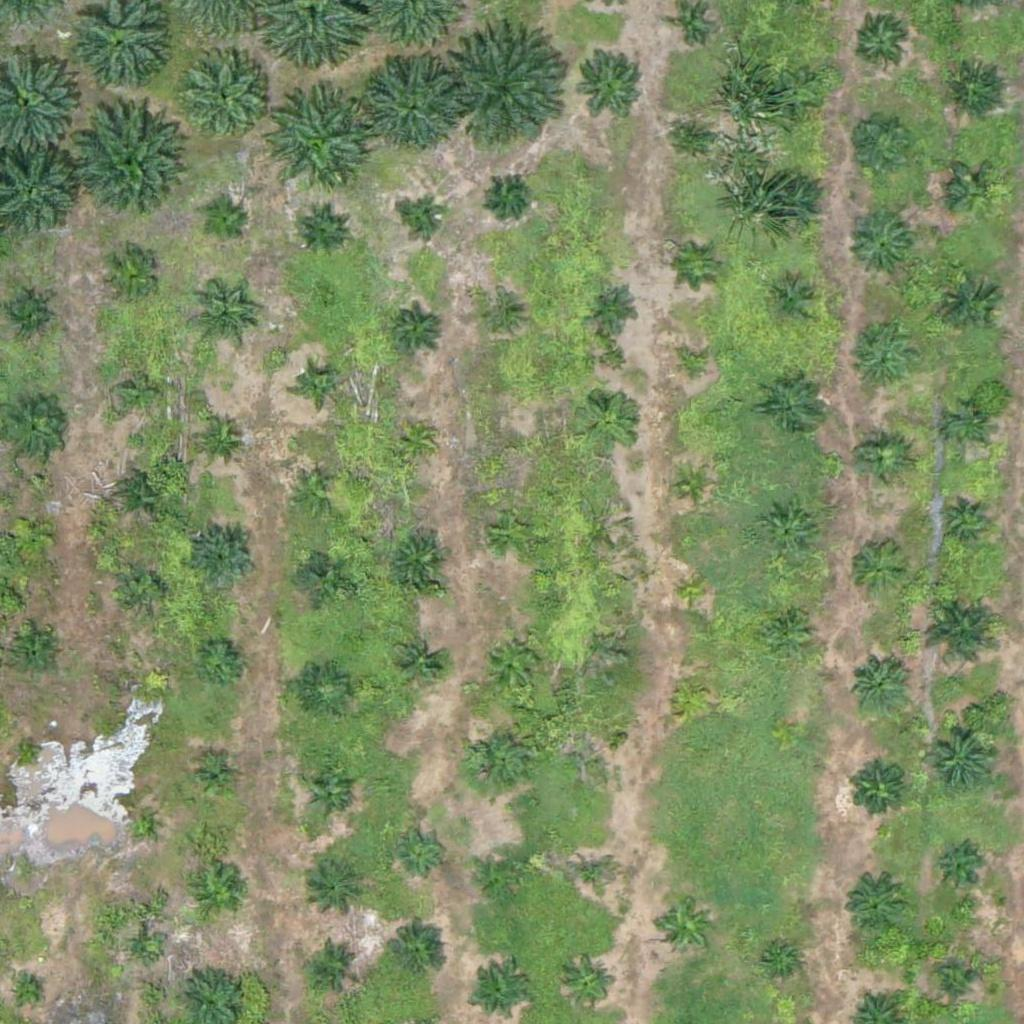Kelapa_Sawit: (449, 29, 574, 154), (70, 110, 183, 224), (259, 92, 371, 205), (360, 53, 460, 154), (174, 47, 274, 148), (919, 588, 1006, 676), (841, 109, 916, 185), (922, 719, 997, 794), (573, 45, 648, 120), (845, 537, 908, 600), (850, 330, 913, 393), (848, 654, 911, 717), (306, 857, 369, 920), (191, 290, 254, 353), (97, 244, 160, 307), (464, 728, 527, 791), (763, 373, 826, 436), (654, 896, 717, 959), (193, 526, 256, 589), (759, 503, 822, 566), (764, 173, 827, 236), (943, 57, 1006, 120), (108, 361, 171, 424), (385, 926, 448, 989), (849, 214, 911, 277), (842, 874, 904, 937), (846, 757, 908, 820), (939, 274, 1001, 337), (1, 399, 63, 462), (388, 530, 450, 593), (482, 631, 544, 694), (578, 391, 640, 454), (563, 957, 613, 1008), (300, 665, 350, 716), (768, 277, 818, 328), (298, 547, 348, 598), (118, 469, 168, 520), (775, 71, 825, 122), (194, 412, 244, 463), (119, 563, 169, 614), (7, 509, 57, 560), (195, 636, 245, 687), (393, 636, 443, 687), (567, 851, 617, 902), (479, 849, 529, 900), (397, 826, 447, 877), (305, 768, 355, 819), (857, 436, 907, 486), (929, 845, 979, 895), (949, 166, 999, 216), (298, 205, 348, 255), (194, 870, 244, 920), (392, 303, 442, 353), (762, 604, 812, 654), (857, 18, 907, 68), (930, 959, 980, 1009), (588, 282, 638, 332), (488, 507, 538, 557), (291, 467, 341, 517), (199, 200, 249, 250), (13, 630, 63, 680), (308, 940, 358, 990), (190, 753, 240, 803), (938, 497, 987, 548), (682, 247, 720, 285), (489, 175, 527, 213), (675, 348, 713, 386), (673, 467, 711, 505), (675, 574, 713, 612), (671, 674, 709, 712), (397, 421, 435, 459), (300, 366, 338, 404), (762, 945, 800, 983), (406, 201, 443, 239), (948, 406, 985, 444), (483, 299, 520, 337), (495, 428, 532, 466), (578, 726, 615, 764), (673, 9, 710, 46), (677, 119, 714, 156), (127, 810, 152, 835), (132, 938, 157, 963), (15, 981, 40, 1006), (15, 737, 40, 762)
